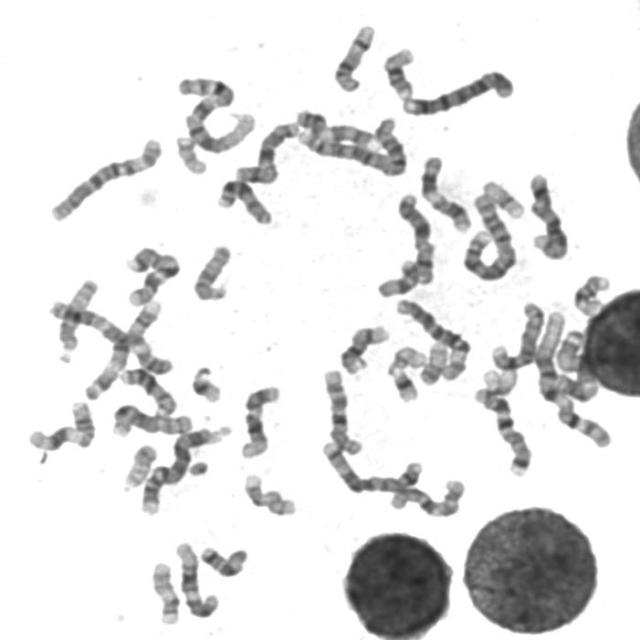A1: (530, 306, 616, 452), (172, 71, 258, 156)
A2: (294, 112, 409, 179), (458, 190, 518, 283)
A3: (46, 299, 130, 402), (537, 328, 601, 404)
B4: (136, 421, 230, 517), (398, 64, 518, 118)
B5: (316, 437, 426, 496), (522, 169, 572, 261)
C10: (318, 365, 365, 457), (388, 477, 467, 519)
C11: (415, 149, 474, 234), (23, 397, 98, 452)
C12: (170, 536, 221, 620), (236, 380, 283, 460)
C6: (44, 132, 165, 223), (391, 294, 472, 383)
C7: (468, 384, 534, 478), (121, 242, 182, 309)
C8: (486, 298, 547, 372), (107, 400, 194, 439)
C9: (122, 299, 176, 377), (294, 108, 383, 154)
D13: (115, 363, 178, 418), (213, 176, 274, 227)
D14: (329, 20, 378, 94), (335, 320, 391, 375)
D15: (53, 274, 101, 354), (189, 240, 234, 302)
E16: (378, 41, 418, 100), (569, 270, 613, 318)
E17: (238, 469, 299, 518), (147, 558, 182, 628)
E18: (371, 255, 421, 299), (195, 541, 250, 579)
F19: (478, 175, 528, 220), (476, 362, 518, 396)
F20: (119, 440, 160, 490), (415, 337, 450, 387)
G21: (186, 361, 225, 405), (385, 364, 421, 404)
G22: (171, 130, 209, 176), (383, 342, 428, 374)
X: (230, 117, 302, 185), (393, 188, 438, 286)
